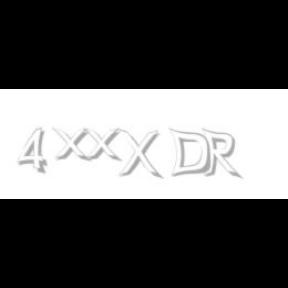4: (16, 128, 48, 174)
D: (168, 128, 210, 178)
R: (201, 128, 239, 180)
X: (116, 128, 160, 180)
x: (52, 128, 94, 162), (83, 128, 125, 162)
